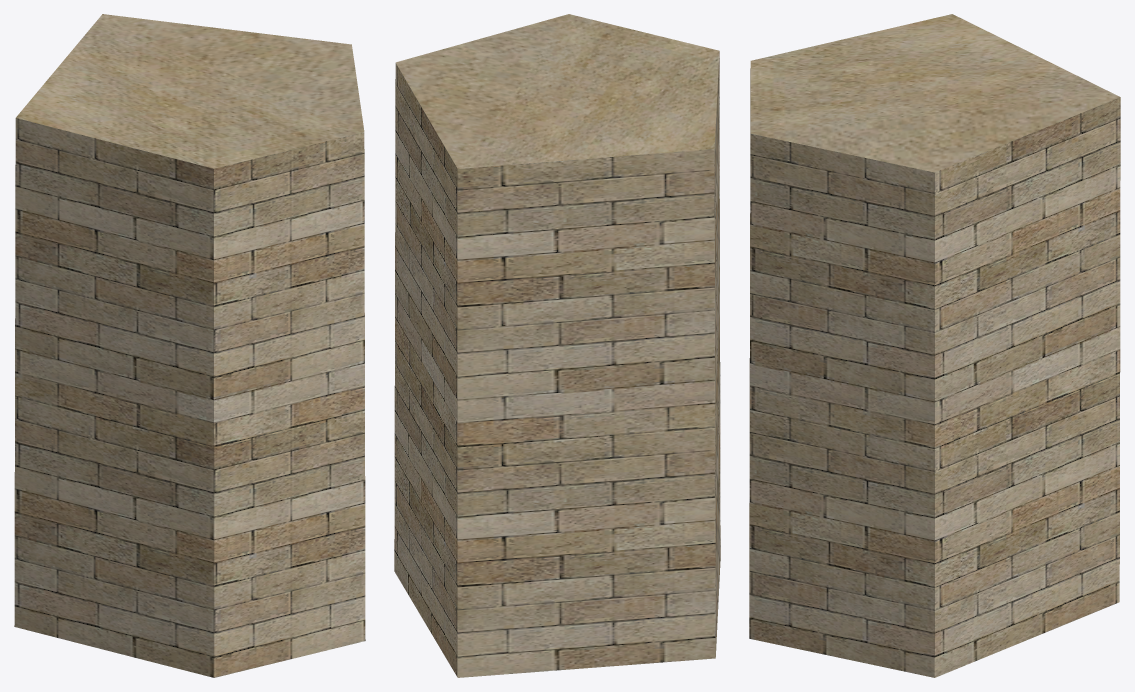
File: thm_nboo_thed_imprv_seawall_intersection_s01_l1.fbx
The picture shows the model from 3 angles, left to right: view 1: azimuth 30°, elevation 25°; view 2: azimuth 150°, elevation 25°; view 3: azimuth 270°, elevation 25°; orthographic projection.
Parts seen in each view (by area): view 1: mesh_node; view 2: mesh_node; view 3: mesh_node.
Part boxes in pixels (x1,y1,x2,y2): mesh_node: (14,14,365,677); mesh_node: (394,14,720,677); mesh_node: (749,14,1120,677).
Bounding box in the file's own units: 6.3 × 9.29 × 6.19.
